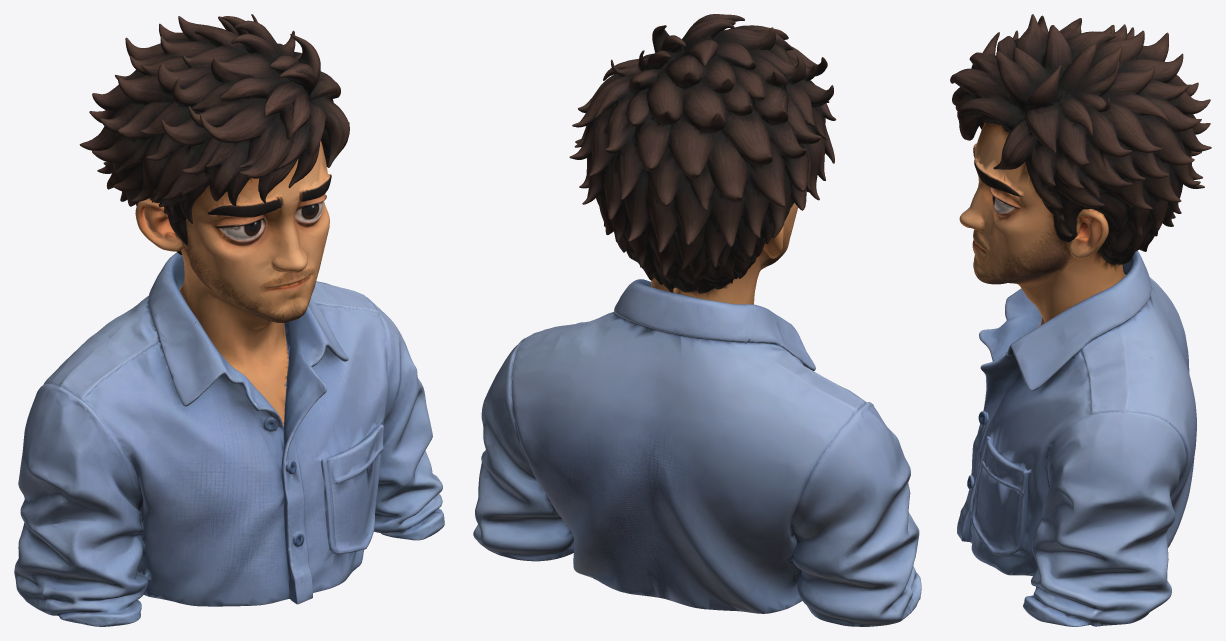
Rendered from rohan.glb.
3 renders of one model, left to right at view 1: azimuth 30°, elevation 25°; view 2: azimuth 150°, elevation 25°; view 3: azimuth 270°, elevation 25°, orthographic. The views are drawn at different scales.
Visible parts, largest first — view 1: tripo_node_ecb3e690-a94c-4767-8e6d-d8f5e676e74b; view 2: tripo_node_ecb3e690-a94c-4767-8e6d-d8f5e676e74b; view 3: tripo_node_ecb3e690-a94c-4767-8e6d-d8f5e676e74b.
Boxes of the visible parts, bbox=[...] form: tripo_node_ecb3e690-a94c-4767-8e6d-d8f5e676e74b: bbox=[14, 14, 444, 626]; tripo_node_ecb3e690-a94c-4767-8e6d-d8f5e676e74b: bbox=[473, 14, 921, 626]; tripo_node_ecb3e690-a94c-4767-8e6d-d8f5e676e74b: bbox=[950, 14, 1211, 626].
Bounding box in the file's own units: 0.8127 × 0.9999 × 0.4708.
1 material, 1 textured.
